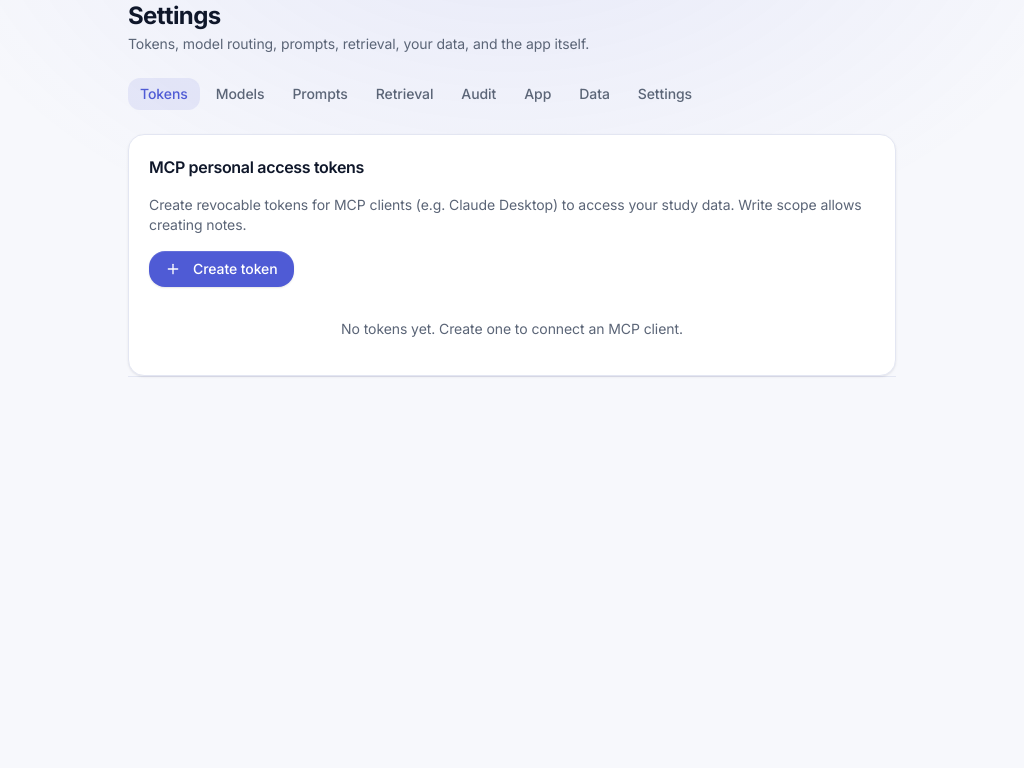
Scenario: the MCP token controls › reports a failed copy instead of toasting success over it
Click the button "Create token" at (221, 269), box [149,251,294,287]
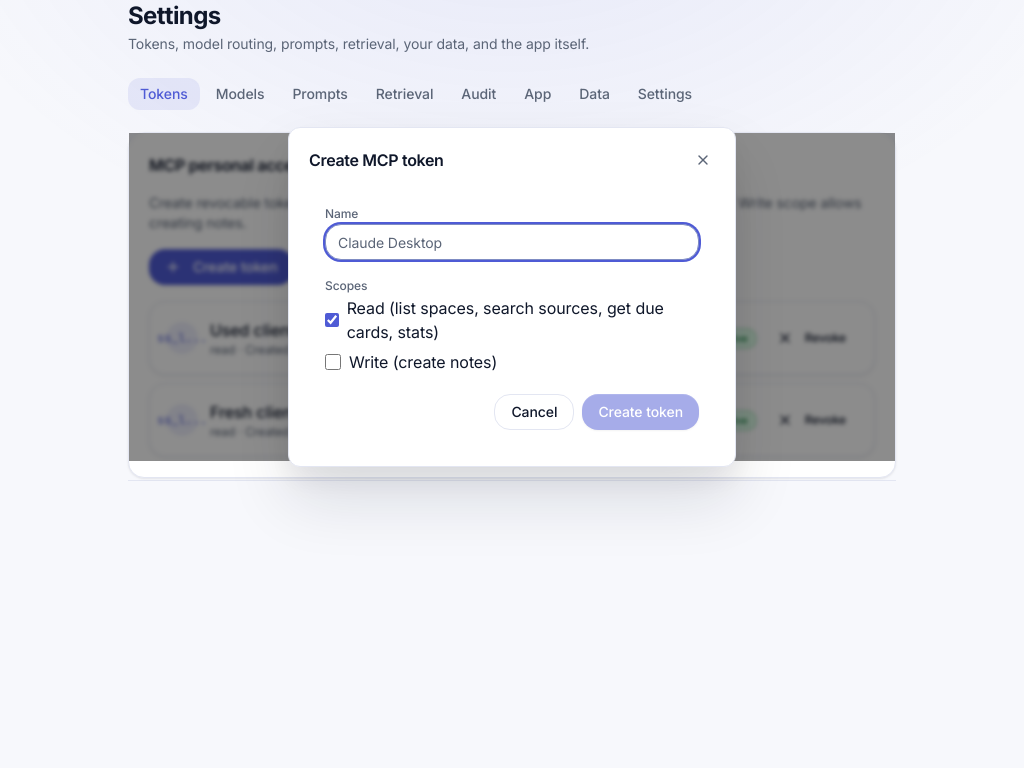
Type "New client" into the field labelled "Name" at (512, 242), box [325,224,699,260]
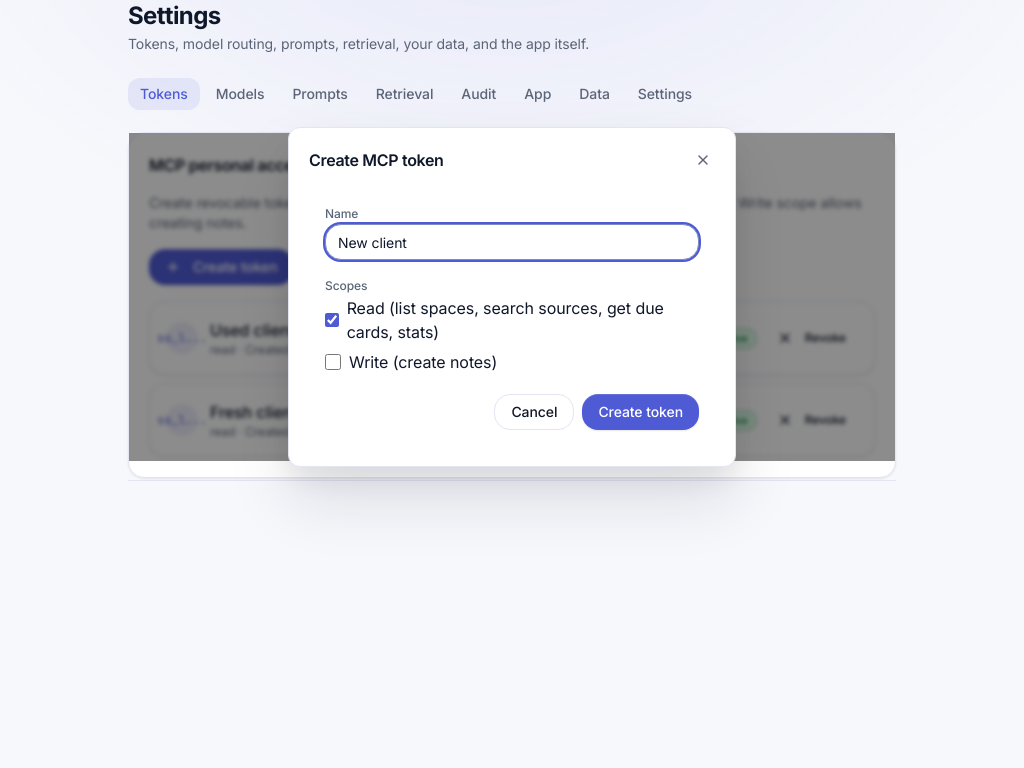
Submit the form labelled "Name", box [309,184,715,446]
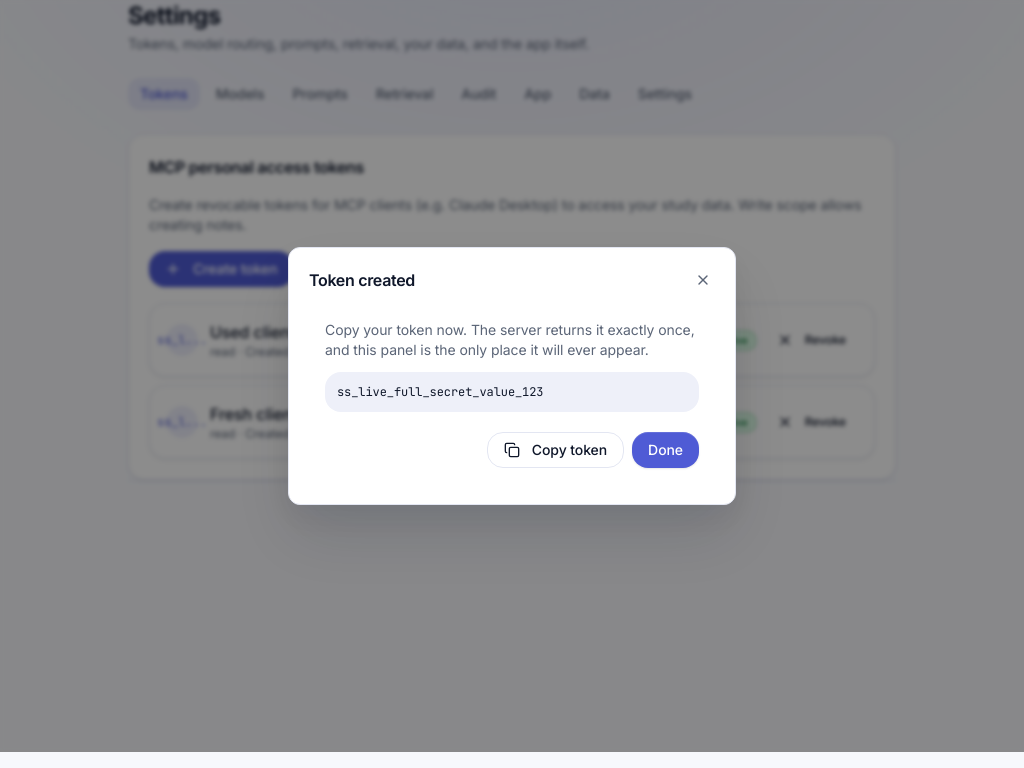
Result: the text "ss_live_full_secret_value_123" is shown at [325,372,699,412]
Click the button "Copy token" at (555, 450), box [487,432,624,468]
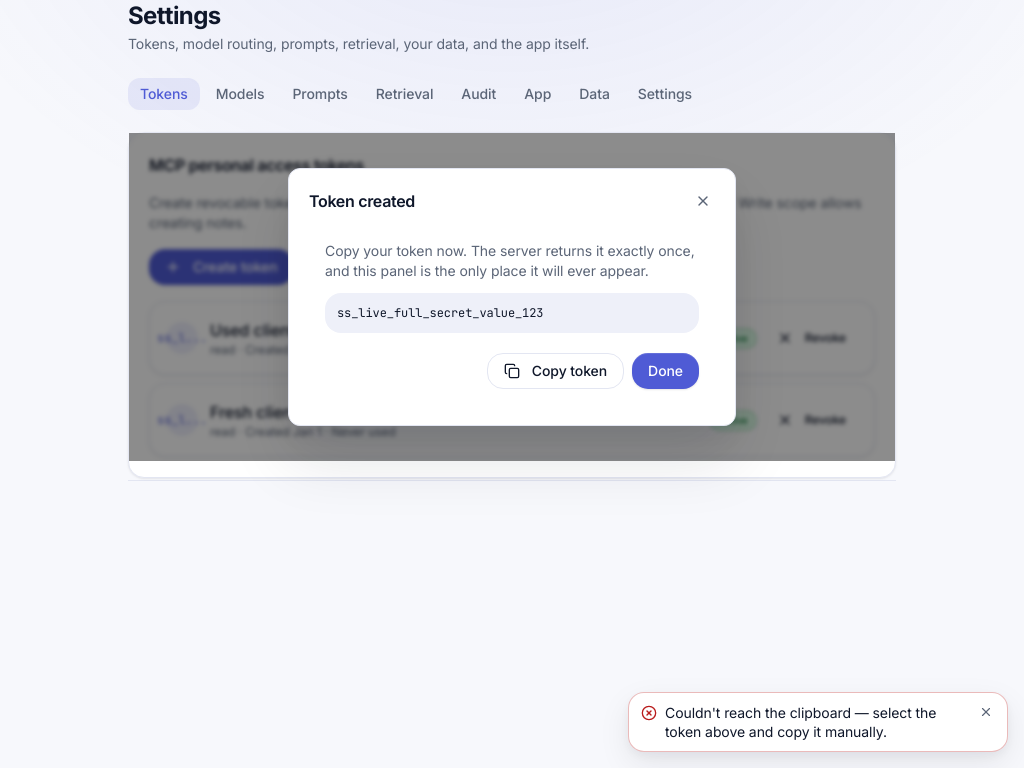
Result: the text "Couldn't reach the clipboard" is shown at [665,704,936,740]
